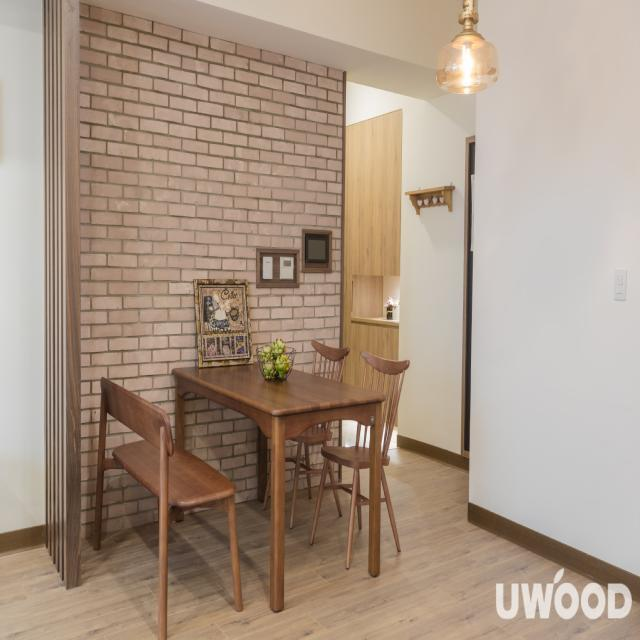table: (90, 334, 416, 632)
